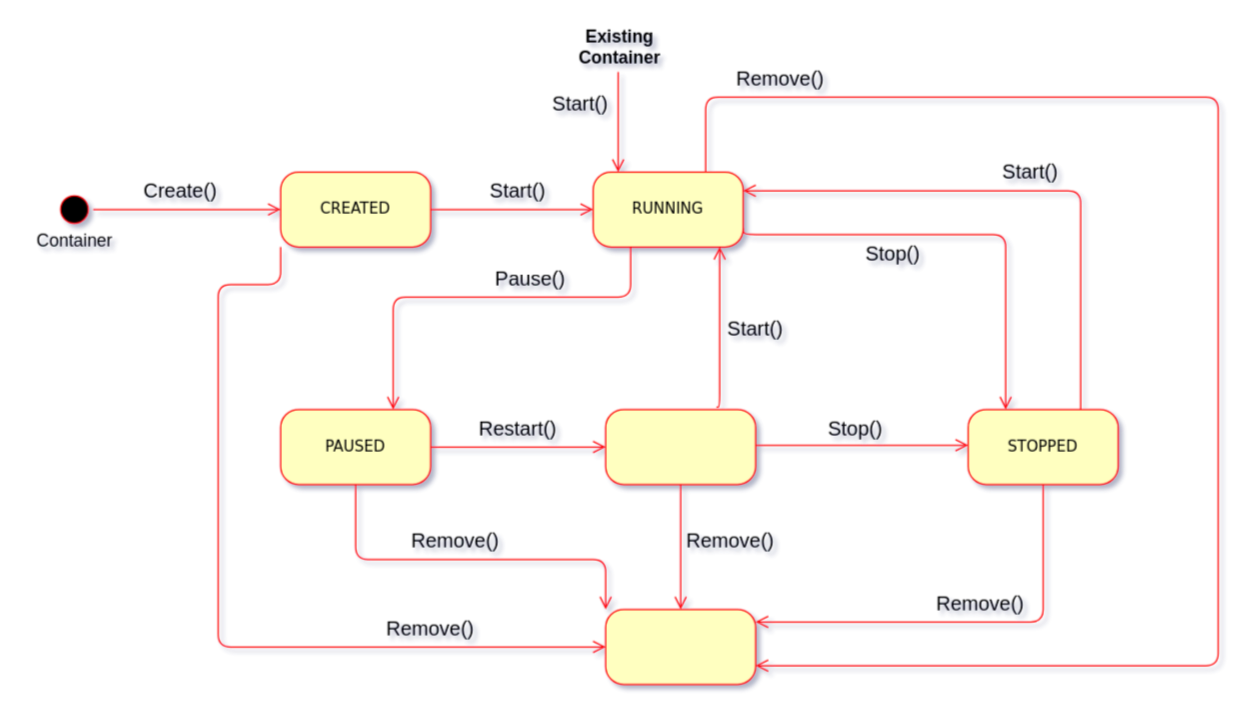
Some shapes in this 1260 by 714 pixel diagram are drawn without their labels. Here are the shapes that lost their labels. From the top down, the centre of each, then its label:
At (680,446): "RESTARTING".
At (680,646): "REMOVED".
